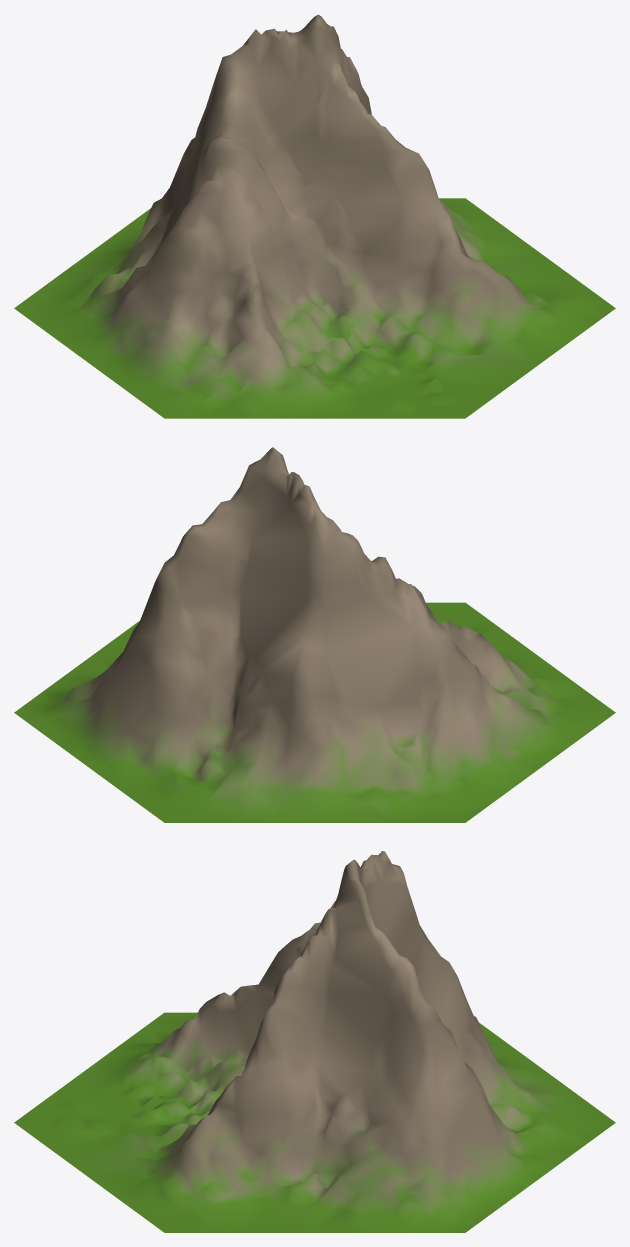
File: SM_Terreno_Montana_LOD2.fbx
3 views of the same model, one above another, from view 1: azimuth 30°, elevation 25°; view 2: azimuth 150°, elevation 25°; view 3: azimuth 270°, elevation 25° (orthographic).
Visible parts, largest first — view 1: SM_Terreno_Montana_LOD2; view 2: SM_Terreno_Montana_LOD2; view 3: SM_Terreno_Montana_LOD2.
Boxes of the visible parts, x1,y1,x2,y2 form: SM_Terreno_Montana_LOD2: (14,14,615,418); SM_Terreno_Montana_LOD2: (14,447,615,822); SM_Terreno_Montana_LOD2: (14,851,615,1232).
Size of the model in its own units: 173 by 101 by 200.
